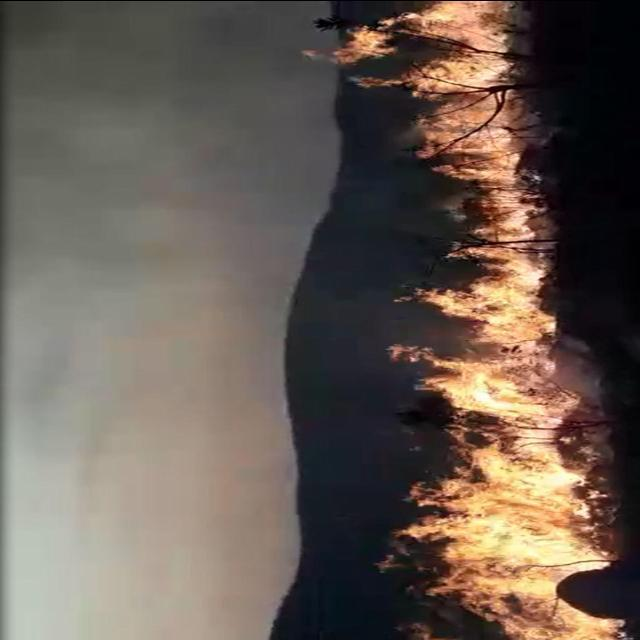Fire: (302, 1, 626, 638)
